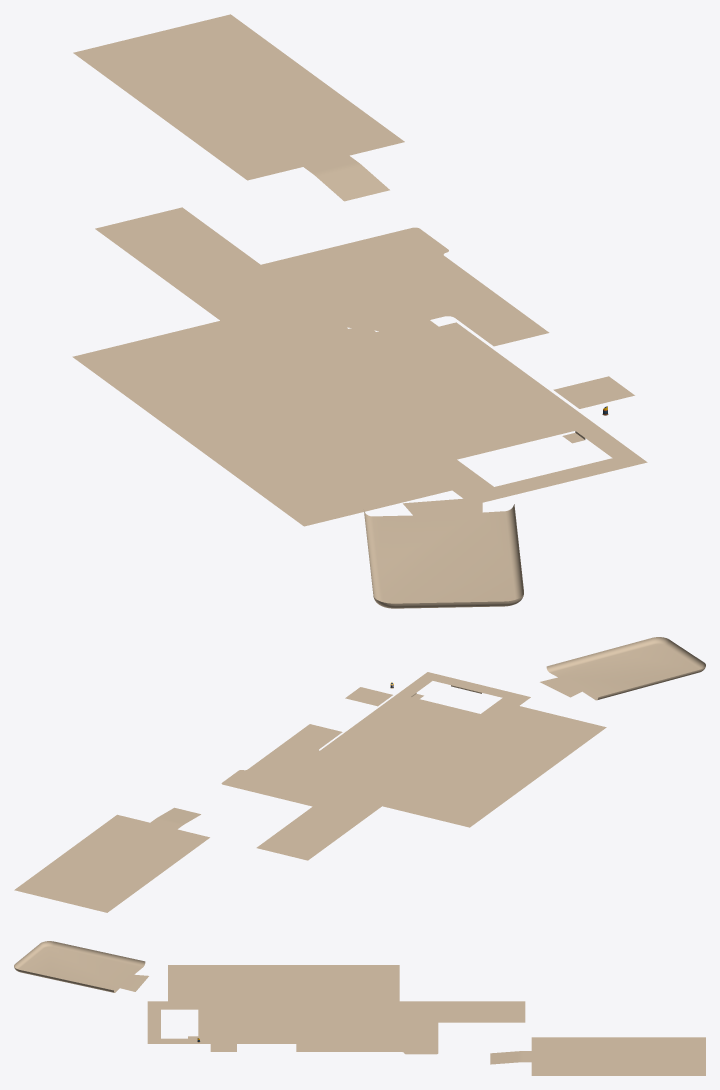
File: chineseCity.glb
3 views of the same model, one above another, from view 1: azimuth 30°, elevation 25°; view 2: azimuth 150°, elevation 25°; view 3: azimuth 270°, elevation 25° (orthographic). The views are drawn at different scales.
Visible parts, largest first — view 1: _ground_custom; view 2: _ground_custom; view 3: _ground_custom.
Boxes of the visible parts, x1,y1,x2,y2 form: _ground_custom: (72, 14, 647, 608); _ground_custom: (14, 637, 705, 912); _ground_custom: (14, 941, 705, 1075).
Size of the model in its own units: 101 by 5.14 by 236.
2 materials, 1 textured.
